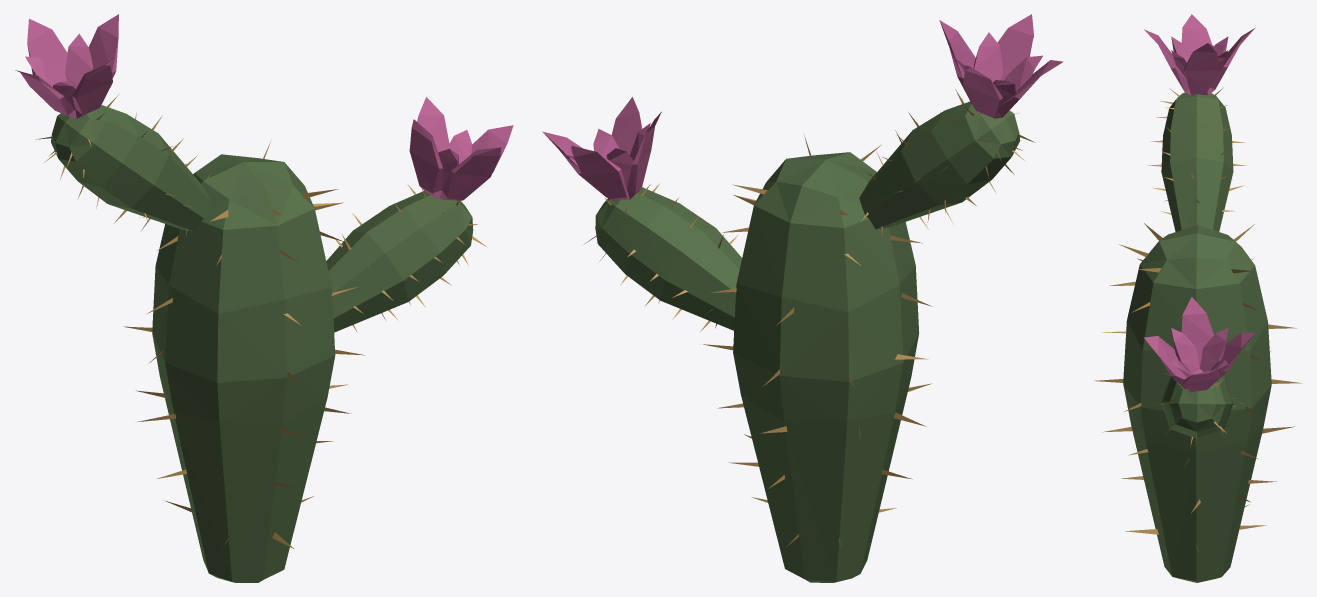
The model's file is veg-cactus-b.glb.
3 renders of one model, left to right at view 1: azimuth 30°, elevation 25°; view 2: azimuth 150°, elevation 25°; view 3: azimuth 270°, elevation 25°, orthographic. The views are drawn at different scales.
Parts seen in each view (by area): view 1: Cactus_4; view 2: Cactus_4; view 3: Cactus_4.
Boxes of the visible parts, box(x1,y1,x2,y2) form: Cactus_4: box(15, 14, 513, 582); Cactus_4: box(542, 14, 1063, 582); Cactus_4: box(1094, 14, 1301, 582).
Size of the model in its own units: 1.3 by 1.43 by 0.5629.
